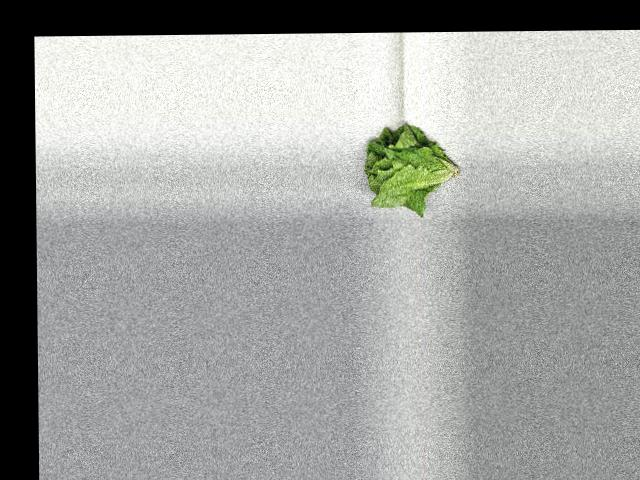lettuce: (359, 118, 467, 215)
